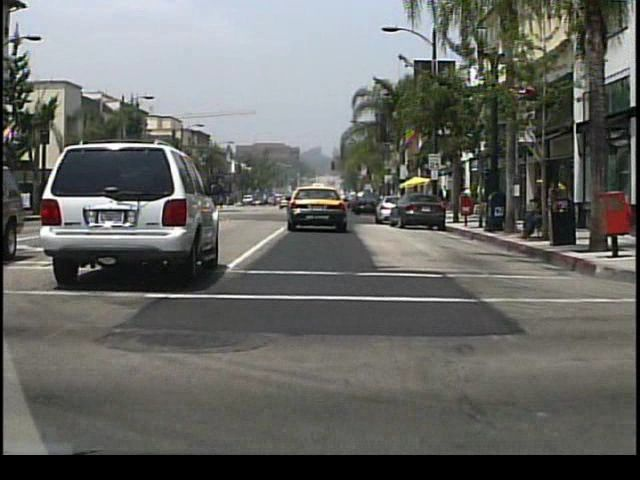person: (519, 189, 553, 240), (545, 177, 560, 234), (439, 184, 451, 213)
